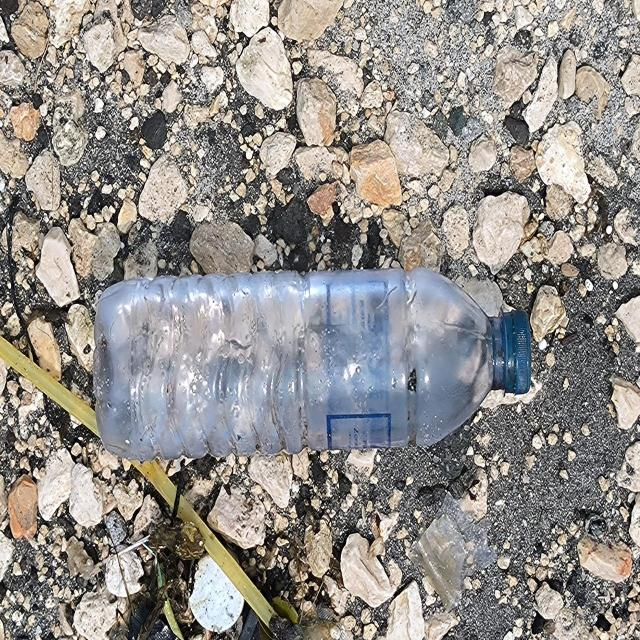litter: (93, 264, 532, 455)
